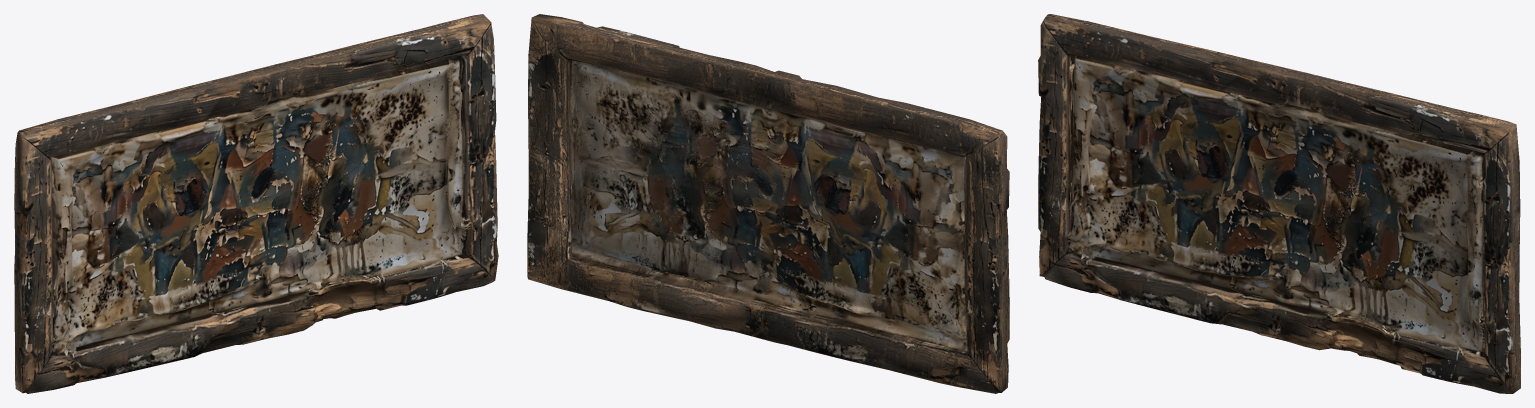
File: AbstractDecay.fbx
The picture shows the model from 3 angles, left to right: view 1: azimuth 30°, elevation 25°; view 2: azimuth 150°, elevation 25°; view 3: azimuth 330°, elevation 25°; orthographic projection.
Visible parts, largest first — view 1: mesh_node; view 2: mesh_node; view 3: mesh_node.
Part boxes in pixels (x1,y1,x2,y2): mesh_node: (14,14,498,393); mesh_node: (527,14,1009,393); mesh_node: (1038,14,1520,393).
Bounding box in the file's own units: 1.98 × 1.06 × 0.08.
